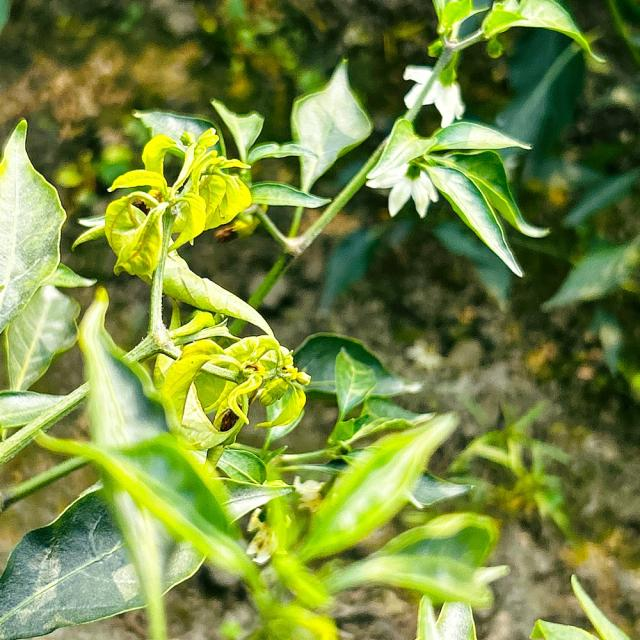Chilli_Leaf_Curl: (1, 1, 614, 638), (1, 482, 207, 638), (364, 115, 551, 278), (294, 409, 461, 562), (101, 126, 253, 282), (0, 117, 68, 332), (288, 56, 374, 195), (431, 0, 607, 66)
